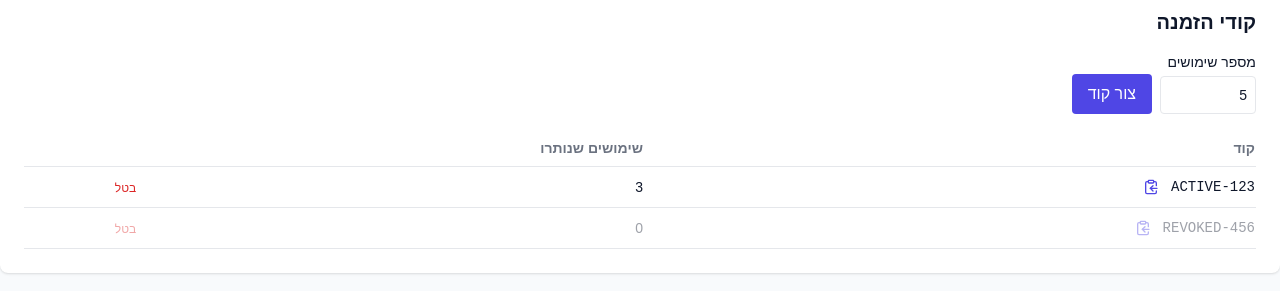
it: AdminInviteCodesContent › copies the exact active invite code and transitions to a checkmark
Click the button with test id "invite-code-copy-active-id" at (1151,187), box [1139,175,1163,199]
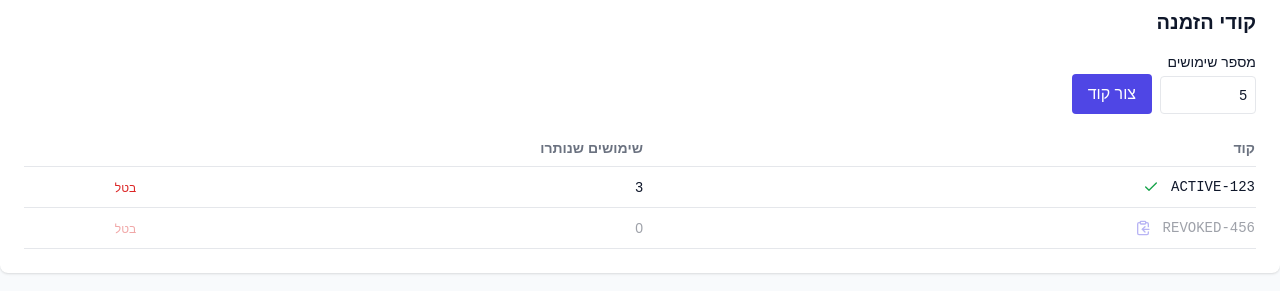
Expected: the text "ACTIVE-123" is shown, [1171,177,1255,197]
Now the icon with test id "invite-code-copy-success-active-id" is shown, box [1143,179,1159,195]
